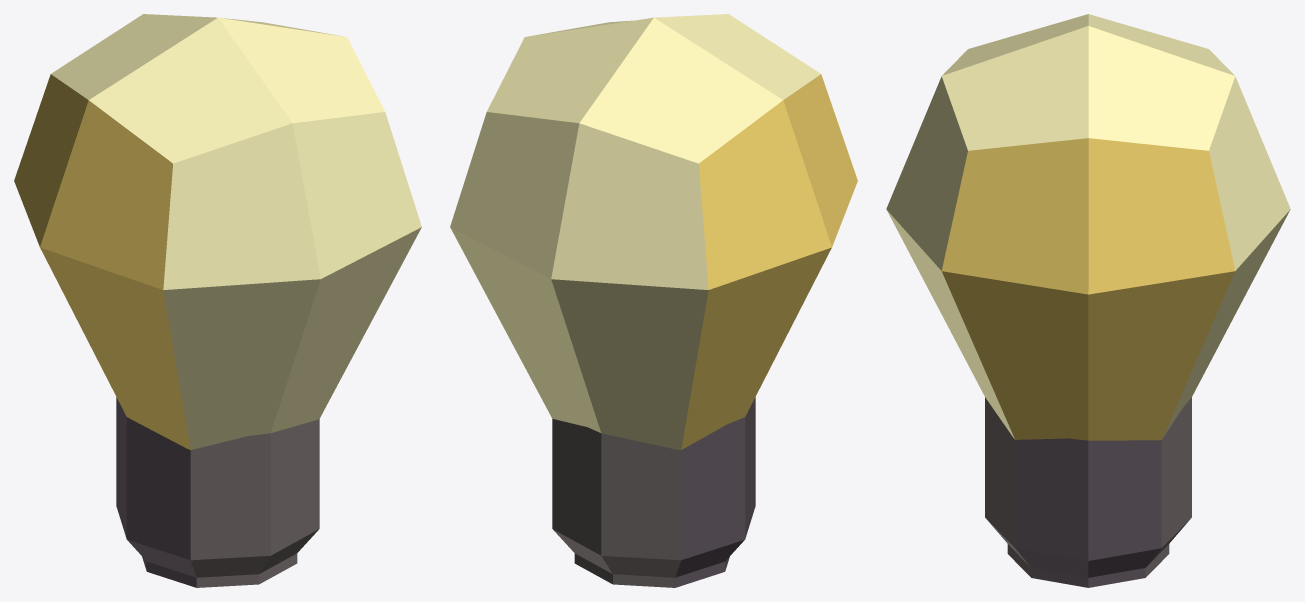
Rendered from Light Bulb.fbx.
3 views of the same model, side by side, from view 1: azimuth 30°, elevation 25°; view 2: azimuth 150°, elevation 25°; view 3: azimuth 270°, elevation 25° (orthographic).
Parts seen in each view (by area): view 1: Light Bulb; view 2: Light Bulb; view 3: Light Bulb.
Boxes of the visible parts, bbox=[...] form: Light Bulb: bbox=[14, 14, 421, 587]; Light Bulb: bbox=[450, 14, 857, 587]; Light Bulb: bbox=[886, 14, 1290, 587].
Bounding box in the file's own units: 23.1 × 33.27 × 23.1.
